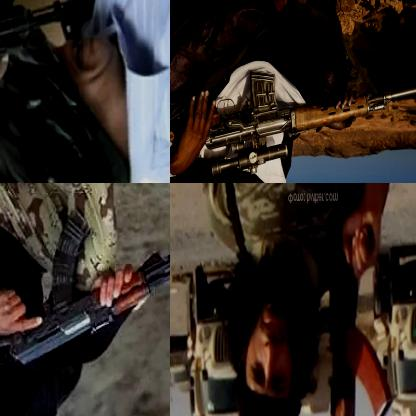rifle: (0, 208, 169, 382), (170, 67, 415, 179), (327, 183, 395, 415), (0, 0, 100, 103)
